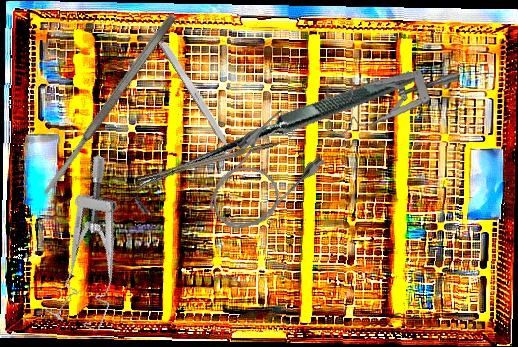Cannula: (191, 104, 331, 245)
Chopper: (135, 129, 298, 183)
Hook Surgical: (132, 3, 420, 281)
Scalpel Handle: (148, 22, 235, 152)
Spatula Surgical: (39, 12, 179, 198)
Speculum: (31, 153, 160, 336), (320, 57, 459, 149)
